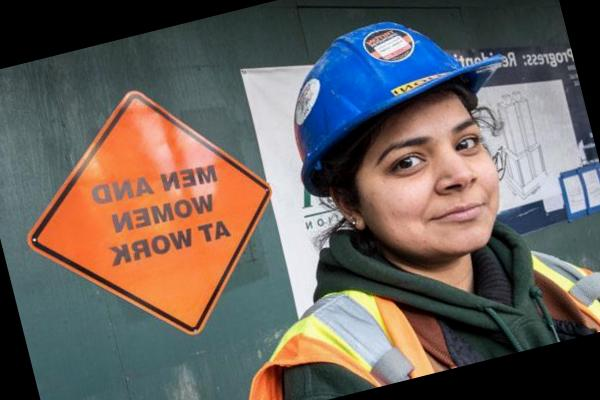helmet: (248, 0, 530, 202)
person: (217, 0, 600, 400)
